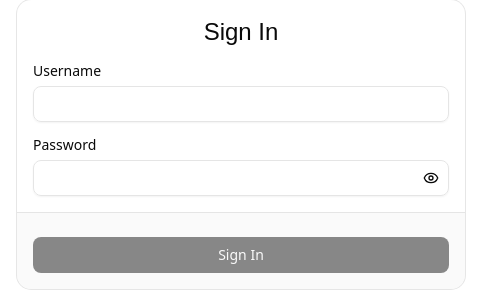
SignInForm › keeps the submit button disabled until the form is valid
This screenshot has width=483, height=307.
Expected: the button "Sign In" is disabled, [33,237,449,273]
Step 1. Type "qauser" into the field labelled "Username" → (241,104), box [33,86,449,122]
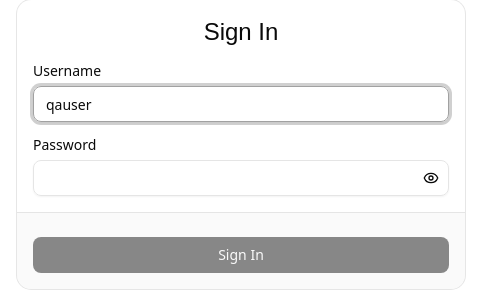
Step 2. Type "hunter2hunter2" into the password field labelled "Password" → (241,178), box [33,160,449,196]
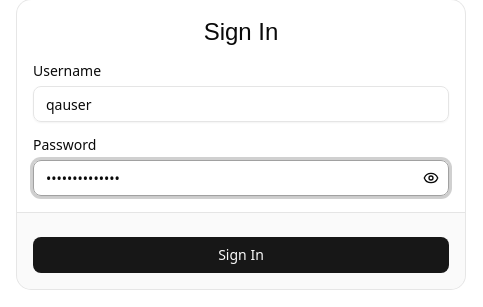
Expected: the button "Sign In" is enabled, [33,237,449,273]
